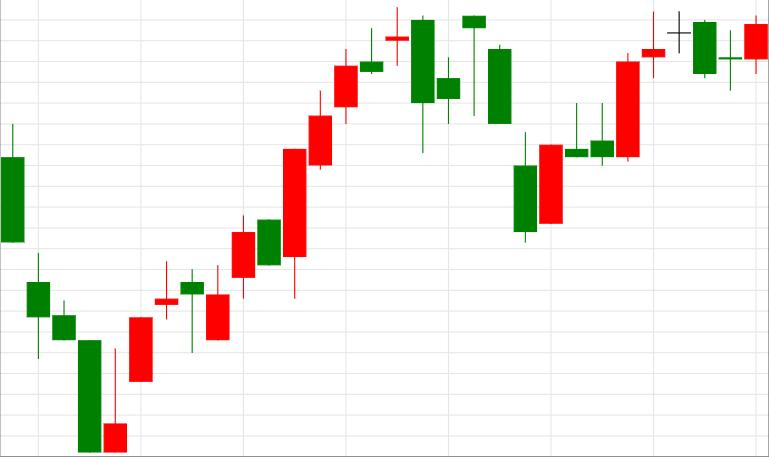inverse_hammer_rise: (1, 124, 128, 453)
